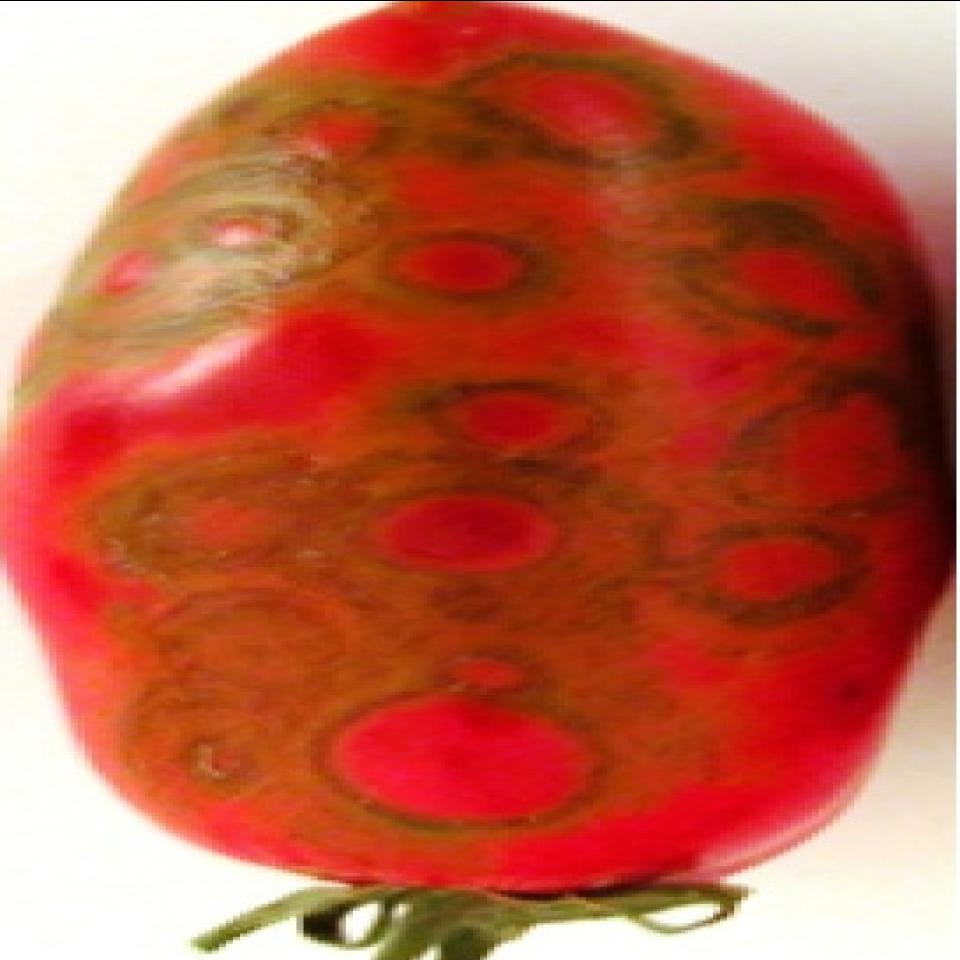Spotted wilt Virus: (0, 0, 953, 898)
